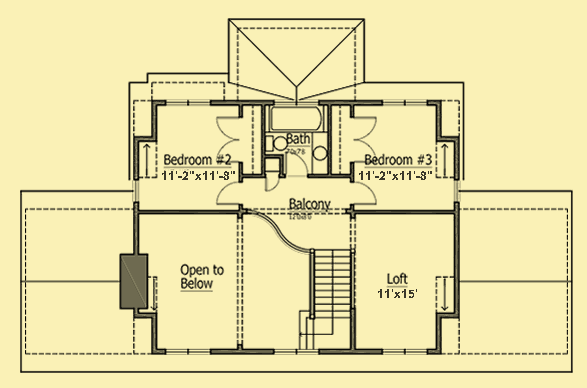door: (349, 112, 380, 167), (216, 114, 244, 165), (349, 179, 381, 208), (284, 150, 310, 179), (214, 180, 240, 208), (260, 169, 283, 194)
large sink: (264, 133, 291, 154)
small sink: (310, 134, 331, 174)
stairs: (306, 247, 358, 322)
tub: (269, 103, 327, 135)
windows: (379, 346, 431, 359), (164, 345, 213, 357), (273, 346, 321, 358), (164, 97, 211, 109), (382, 97, 429, 108), (450, 176, 465, 204), (131, 176, 142, 205)
